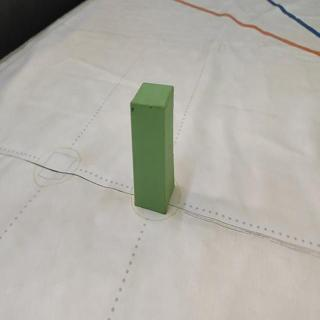greenbox: (130, 81, 179, 214)
